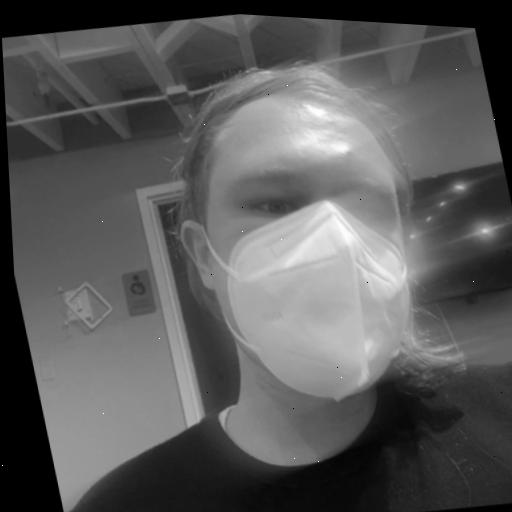mask: (92, 29, 481, 503)
